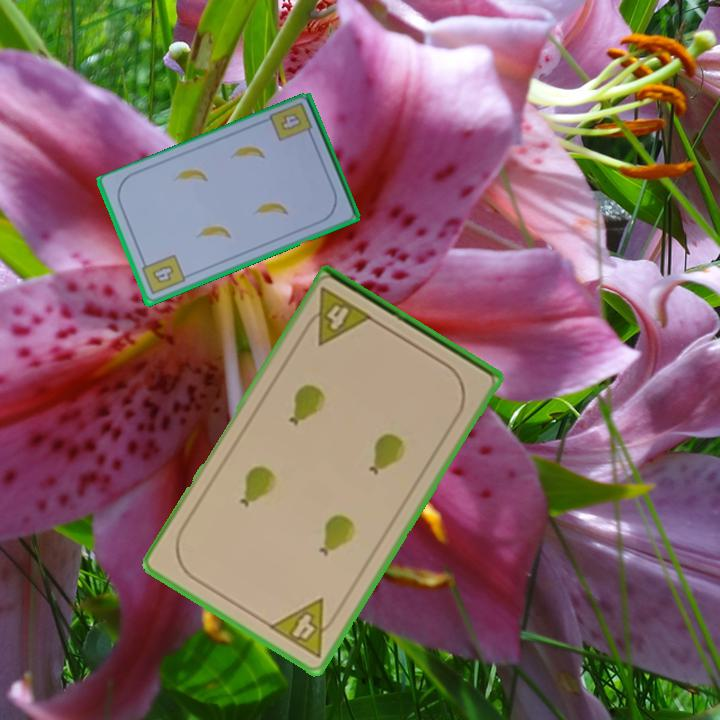4b: (138, 251, 188, 298), (277, 110, 305, 133)
4p: (265, 595, 344, 661), (299, 283, 376, 349)
